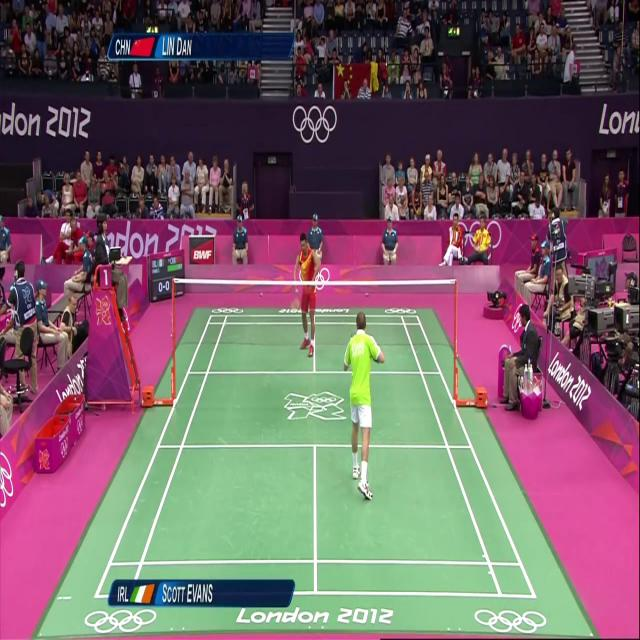Net: (174, 278, 462, 345)
Player1: (340, 302, 387, 509)
Player2: (286, 220, 324, 356)
Shuttlecock: (292, 282, 300, 296)
